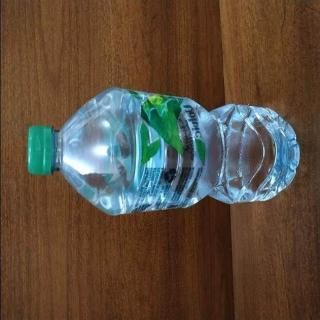Anorganik: (20, 85, 304, 217)
